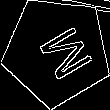M_SW: (24, 19, 89, 84)
